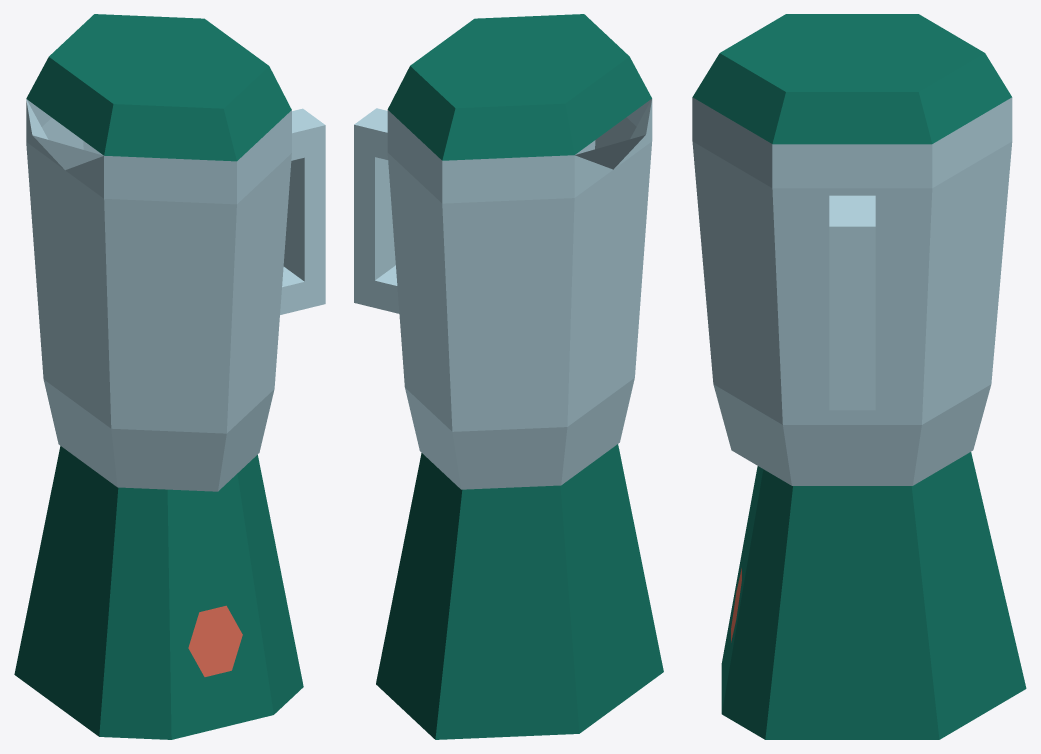
File: blender_a.glb
3 views of the same model, side by side, from view 1: azimuth 30°, elevation 25°; view 2: azimuth 150°, elevation 25°; view 3: azimuth 270°, elevation 25° (orthographic). The views are drawn at different scales.
Parts seen in each view (by area): view 1: body; view 2: body; view 3: body.
Part boxes in pixels (x1,y1,x2,y2): body: [14, 14, 325, 739]; body: [354, 14, 663, 739]; body: [692, 14, 1026, 739].
Size of the model in its own units: 0.2 by 0.42 by 0.2.
